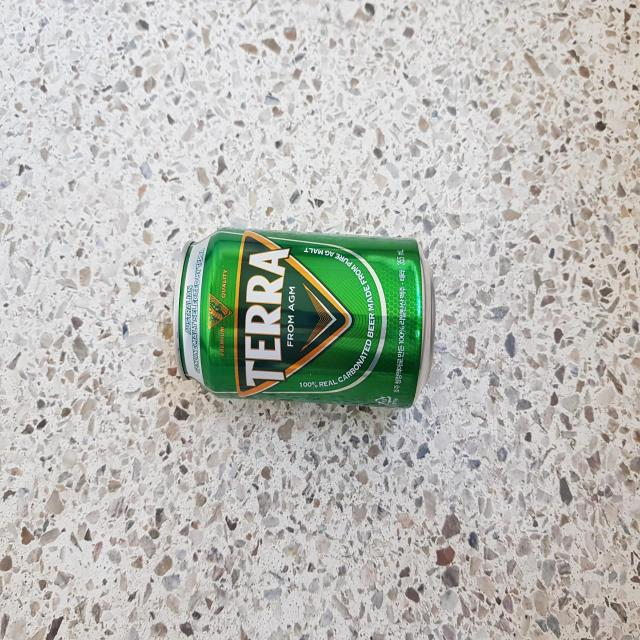can: (173, 229, 436, 407)
